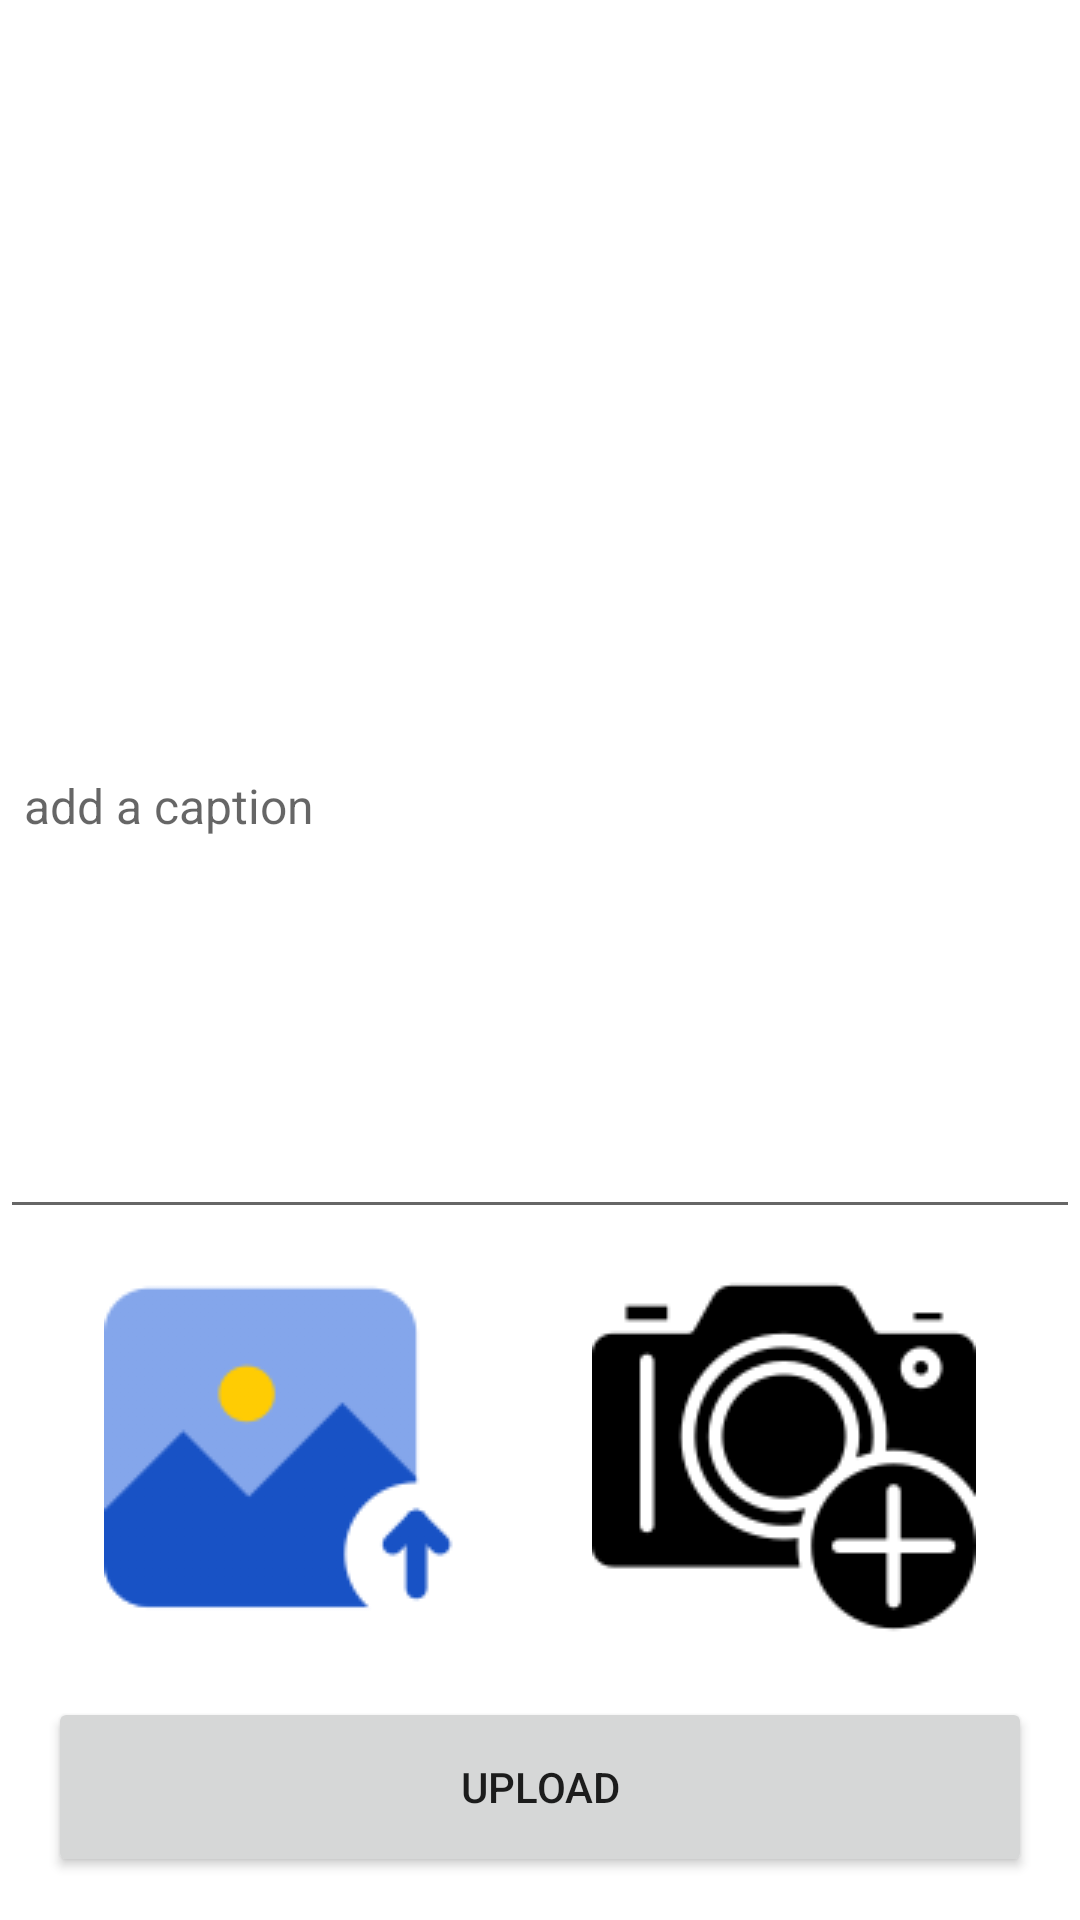

Where icons sit on this 1080×1920 app screen, as box(x1, y1, x2, y2):
photo: box(104, 1287, 452, 1608)
